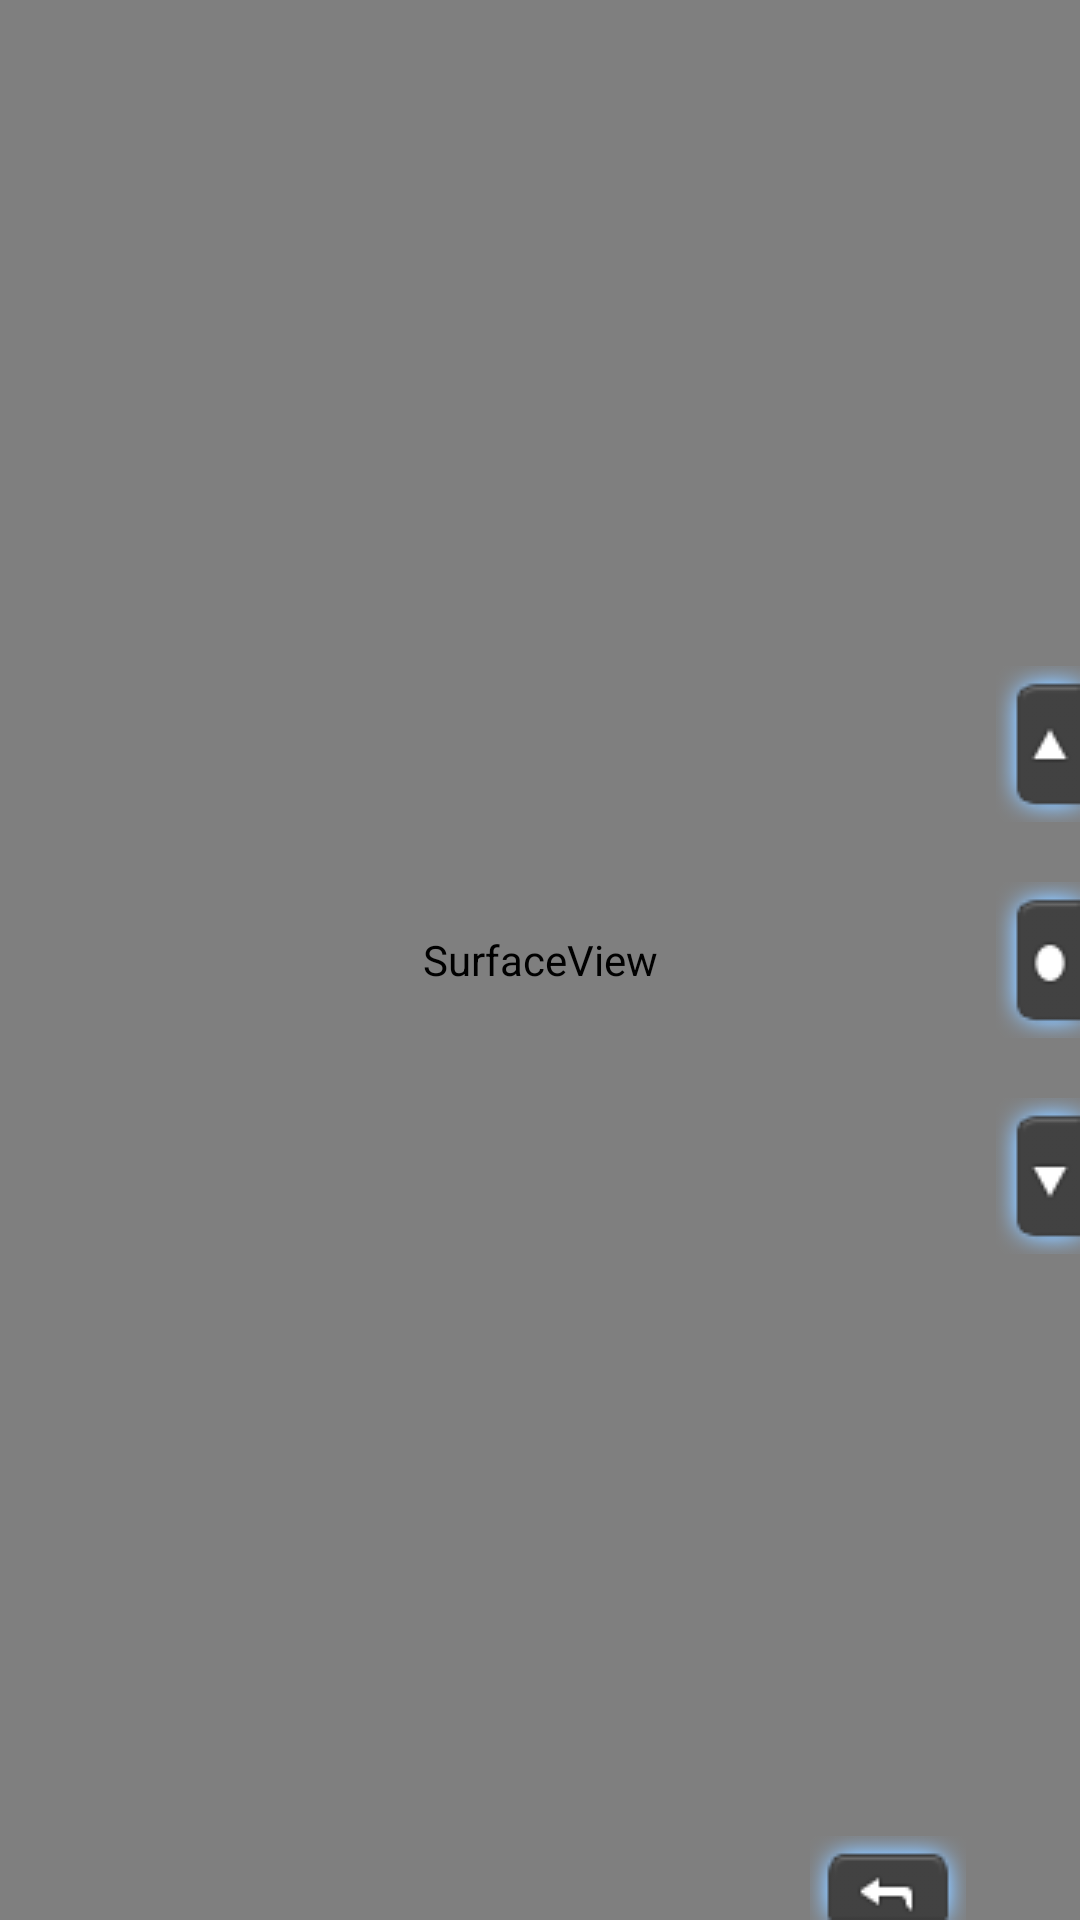

Locate icon controls on the screen. Image size 1080×1920, boxes as (x1, y1, x2, y2).
tag menu main back: (814, 1840, 962, 1920)
tag menu main enter: (1003, 886, 1080, 1034)
tag menu main movedown: (1003, 1102, 1080, 1250)
tag menu main moveup: (1003, 670, 1080, 818)
